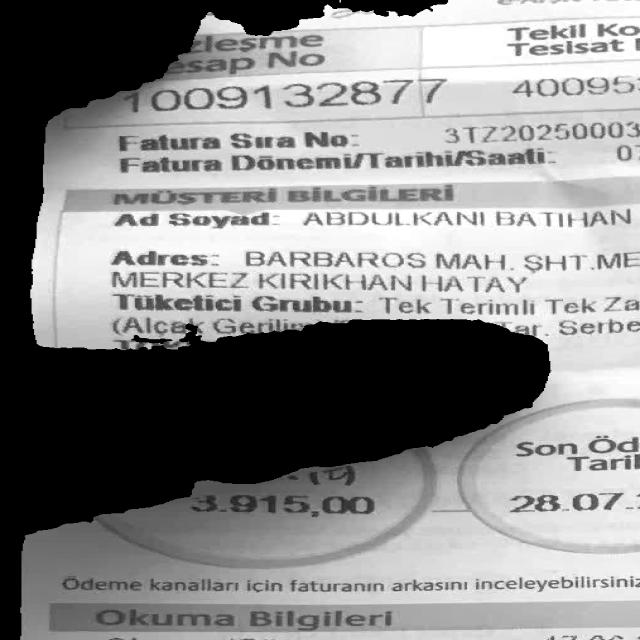electricity-bill: (21, 0, 639, 639)
